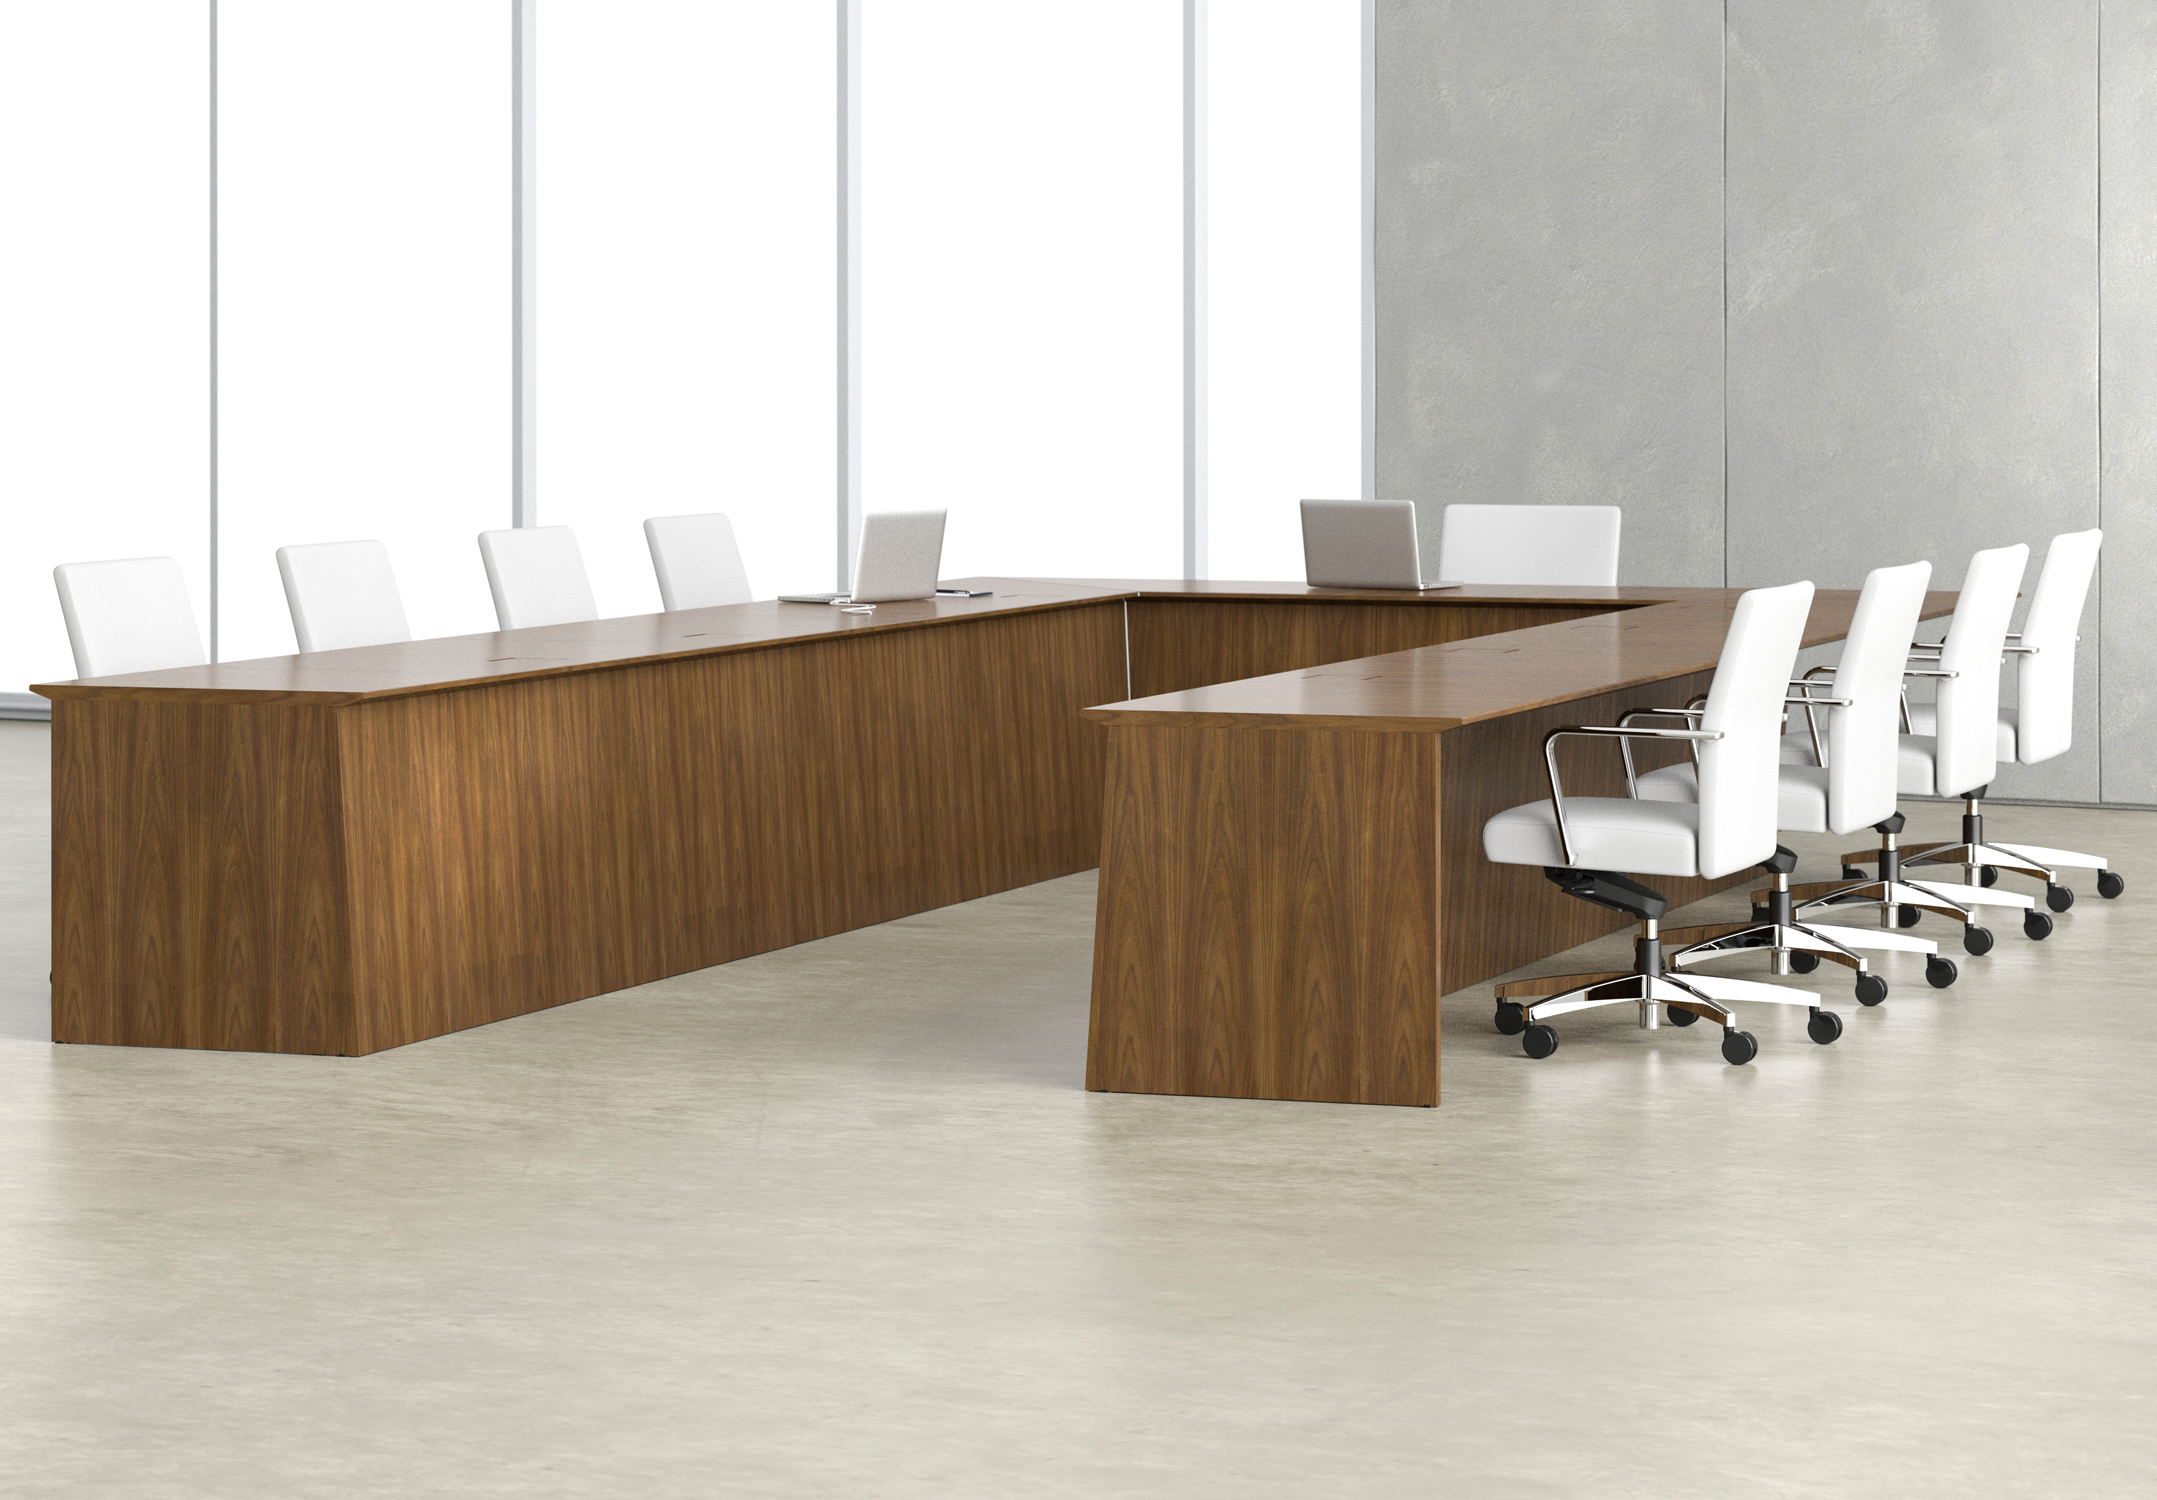conference_table: (28, 540, 1131, 1054), (1078, 588, 2020, 1093)
